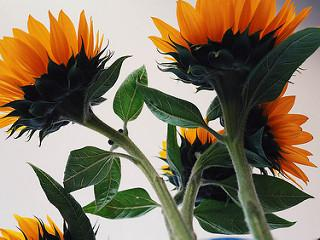sunflower: (0, 9, 135, 138), (150, 0, 320, 86), (261, 84, 320, 189)
